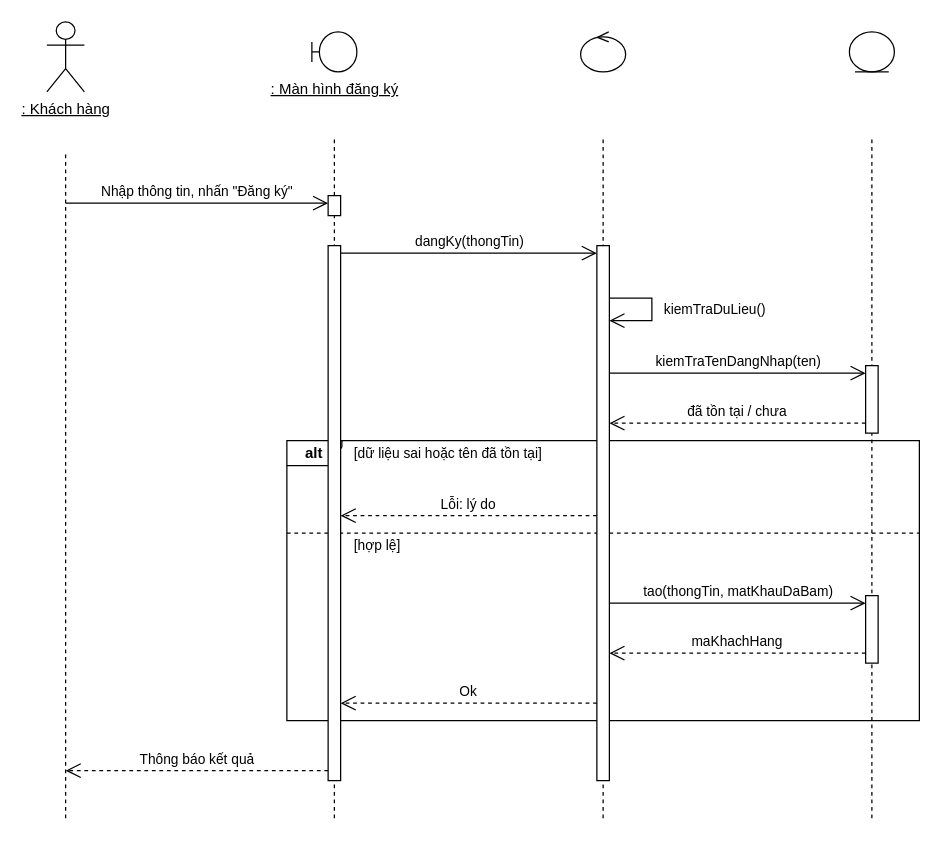
The diagram is 943 pixels wide and 844 high, and some of its shapes have lost their labels. The shapes that lost their labels are listed below. From the top down, each one's centre as x and y in pixels, then its label:
At [602,51]: ": Điều khiển tài khoản".
At [871,51]: ": KhachHang".
